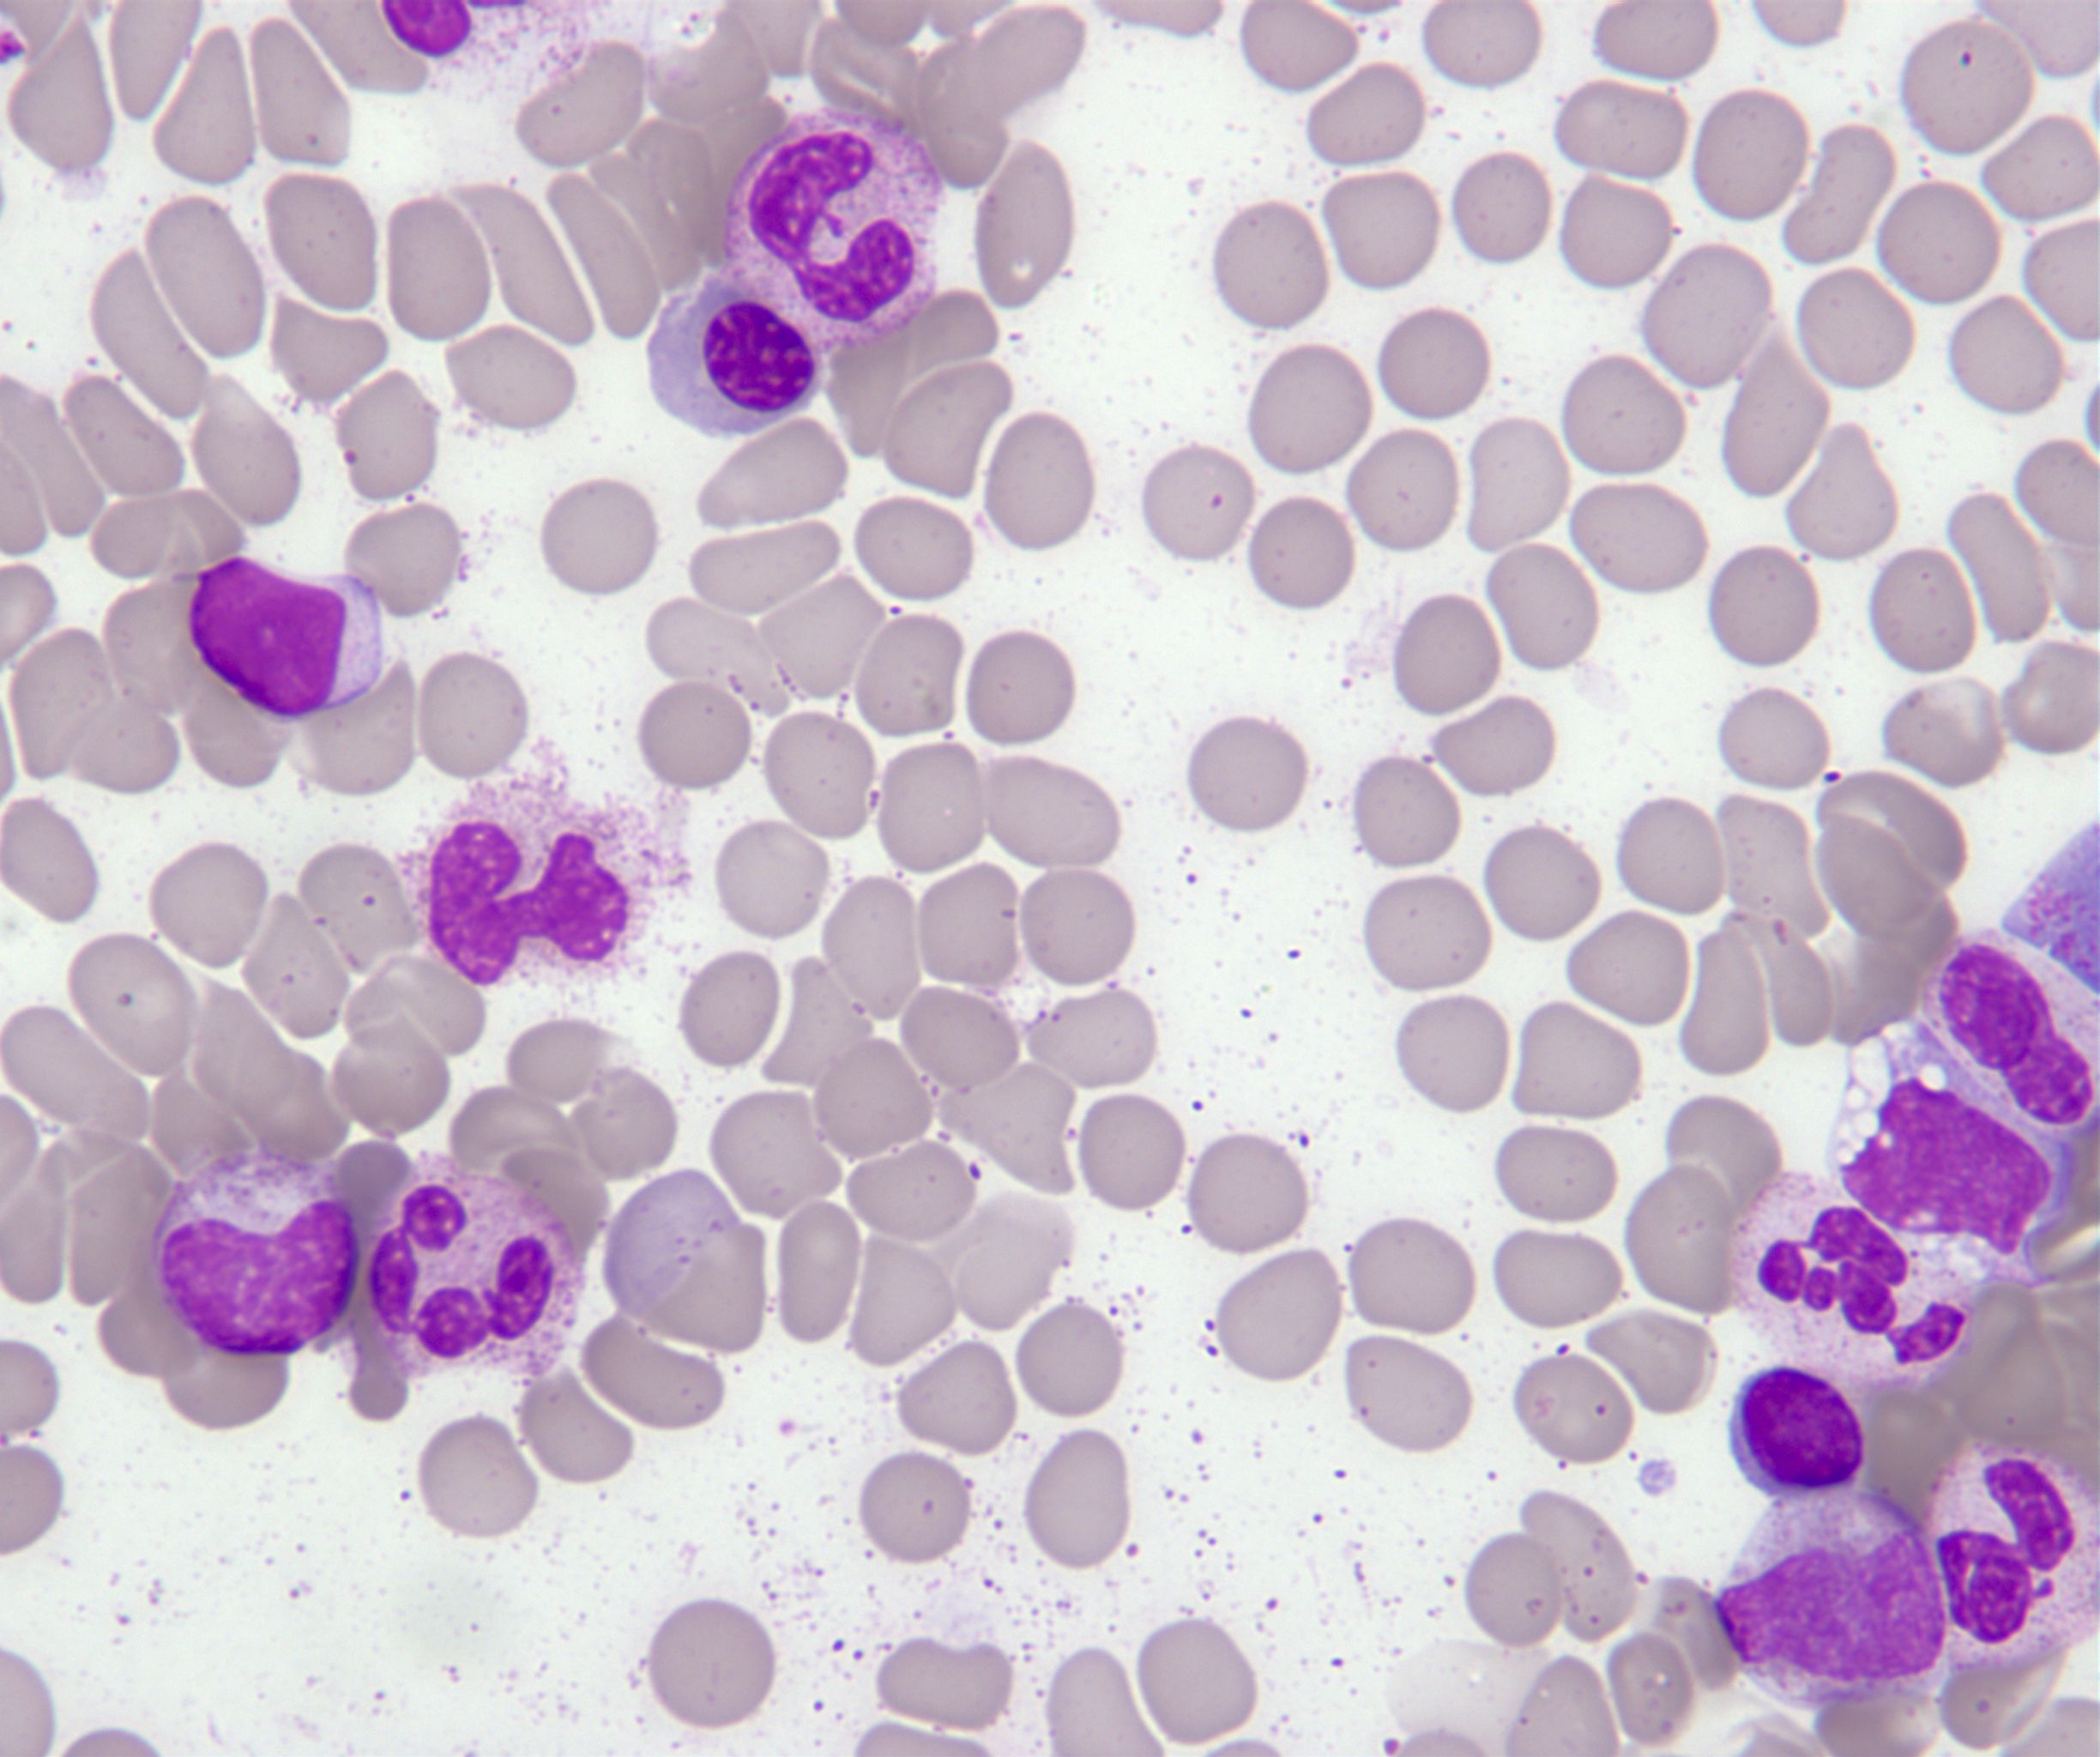24: (637, 269, 830, 440)
3: (1702, 1485, 1948, 1708), (150, 1145, 361, 1356)
32: (183, 555, 385, 728), (1728, 1363, 1872, 1502)
4: (1919, 925, 2100, 1136)
42: (1824, 1075, 2081, 1258)
6: (1725, 1164, 1976, 1384), (724, 106, 951, 349), (365, 1146, 590, 1391), (1920, 1436, 2100, 1680)
x: (410, 771, 645, 986)
